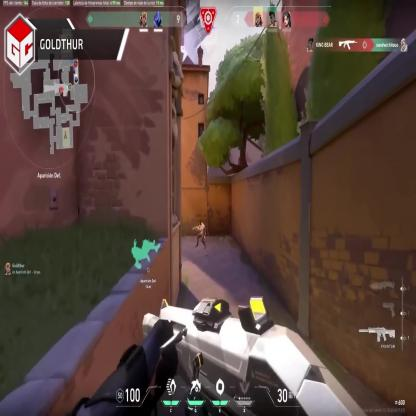enemy: (194, 216, 207, 250)
enemy_head: (199, 219, 202, 225)
